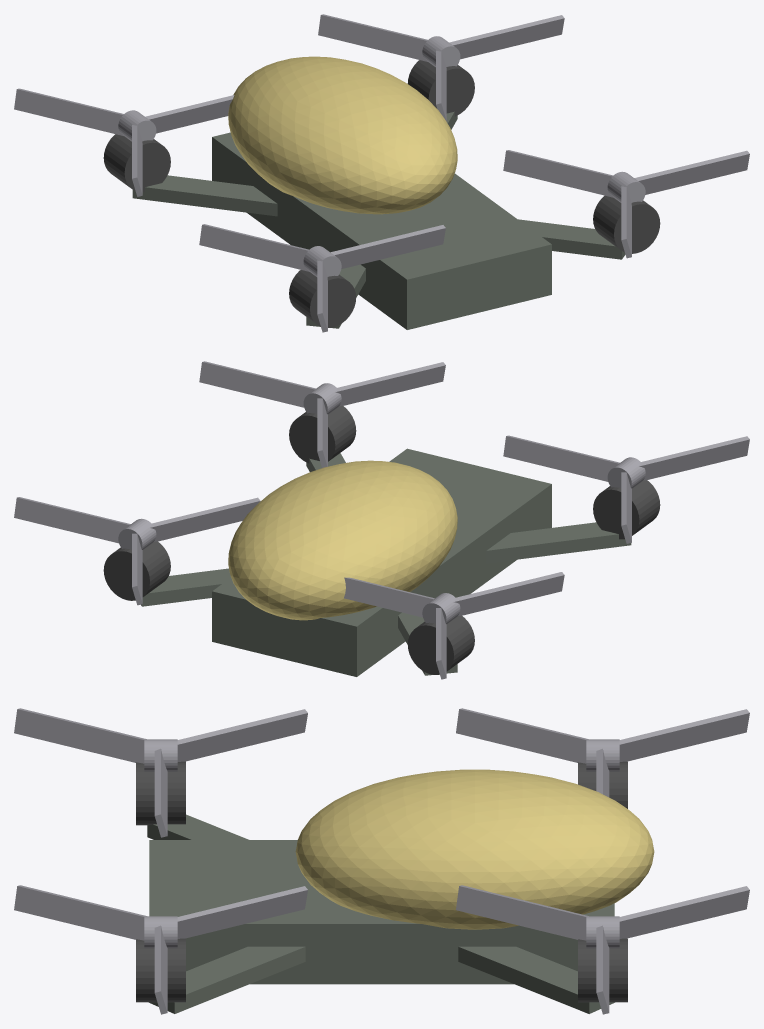
File: Cannonball 800.glb
3 views of the same model, one above another, from view 1: azimuth 30°, elevation 25°; view 2: azimuth 150°, elevation 25°; view 3: azimuth 270°, elevation 25° (orthographic). The views are drawn at different scales.
Visible parts, largest first — view 1: canopy, frame_body, prop_2, prop_0, prop_1, prop_3, arm_3, motor_0, motor_2, motor_3, arm_0, motor_1 (+1 smaller); view 2: canopy, frame_body, prop_2, prop_0, prop_1, prop_3, arm_2, motor_1, motor_3, motor_0, motor_2, arm_1 (+1 smaller); view 3: canopy, frame_body, prop_1, prop_2, prop_0, prop_3, arm_1, arm_0, motor_0, motor_1, motor_2, arm_2 (+1 smaller).
Part boxes in pixels (x1,y1,x2,y2): canopy: [228, 56, 457, 214]; frame_body: [212, 132, 551, 329]; prop_2: [199, 224, 445, 332]; prop_0: [503, 150, 749, 258]; prop_1: [318, 14, 564, 121]; prop_3: [14, 88, 234, 196]; arm_3: [132, 175, 277, 216]; motor_0: [593, 195, 660, 253]; motor_2: [289, 270, 356, 327]; motor_3: [103, 134, 170, 192]; arm_0: [518, 219, 625, 259]; motor_1: [407, 60, 474, 116]; canopy: [228, 460, 457, 620]; frame_body: [212, 448, 551, 676]; prop_2: [503, 435, 749, 543]; prop_0: [199, 361, 445, 467]; prop_1: [14, 497, 260, 605]; prop_3: [344, 572, 564, 679]; arm_2: [486, 522, 631, 563]; motor_1: [103, 541, 170, 600]; motor_3: [407, 616, 474, 674]; motor_0: [289, 406, 356, 463]; motor_2: [593, 480, 660, 539]; arm_1: [141, 568, 230, 606]; canopy: [295, 769, 654, 929]; frame_body: [149, 840, 614, 984]; prop_1: [456, 885, 749, 1014]; prop_2: [14, 708, 307, 837]; prop_0: [14, 885, 307, 1014]; prop_3: [456, 708, 749, 797]; arm_1: [458, 946, 614, 1013]; arm_0: [149, 946, 305, 1013]; motor_0: [136, 938, 185, 1002]; motor_1: [578, 938, 627, 1002]; motor_2: [136, 761, 185, 825]; arm_2: [147, 814, 248, 839].
Size of the model in its own units: 0.2027 by 0.0516 by 0.2215.
